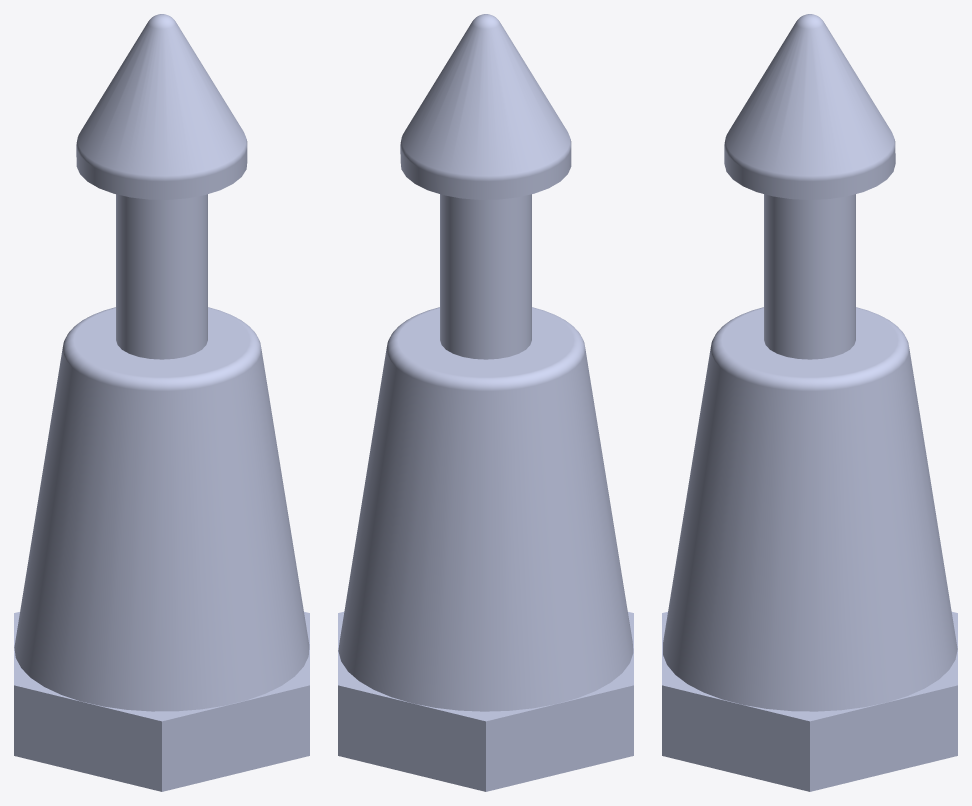
The model's file is Mini Post Plastic (550-5052-02).fbx.
3 renders of one model, left to right at view 1: azimuth 30°, elevation 25°; view 2: azimuth 150°, elevation 25°; view 3: azimuth 270°, elevation 25°, orthographic.
Visible parts, largest first — view 1: Mini Post Plastic (550-5052-02); view 2: Mini Post Plastic (550-5052-02); view 3: Mini Post Plastic (550-5052-02).
Boxes of the visible parts, bbox=[...] form: Mini Post Plastic (550-5052-02): bbox=[14, 14, 309, 791]; Mini Post Plastic (550-5052-02): bbox=[338, 14, 633, 791]; Mini Post Plastic (550-5052-02): bbox=[662, 14, 957, 791].
Bounding box in the file's own units: 1.11 × 2.53 × 0.9652.
